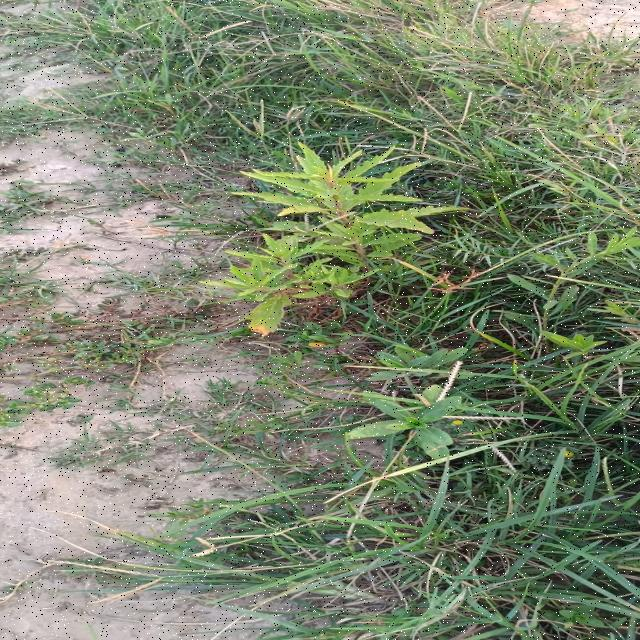plant: (208, 144, 460, 334)
